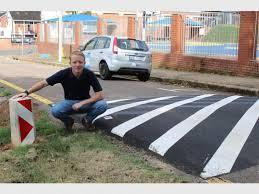Bump: (64, 92, 258, 180)
